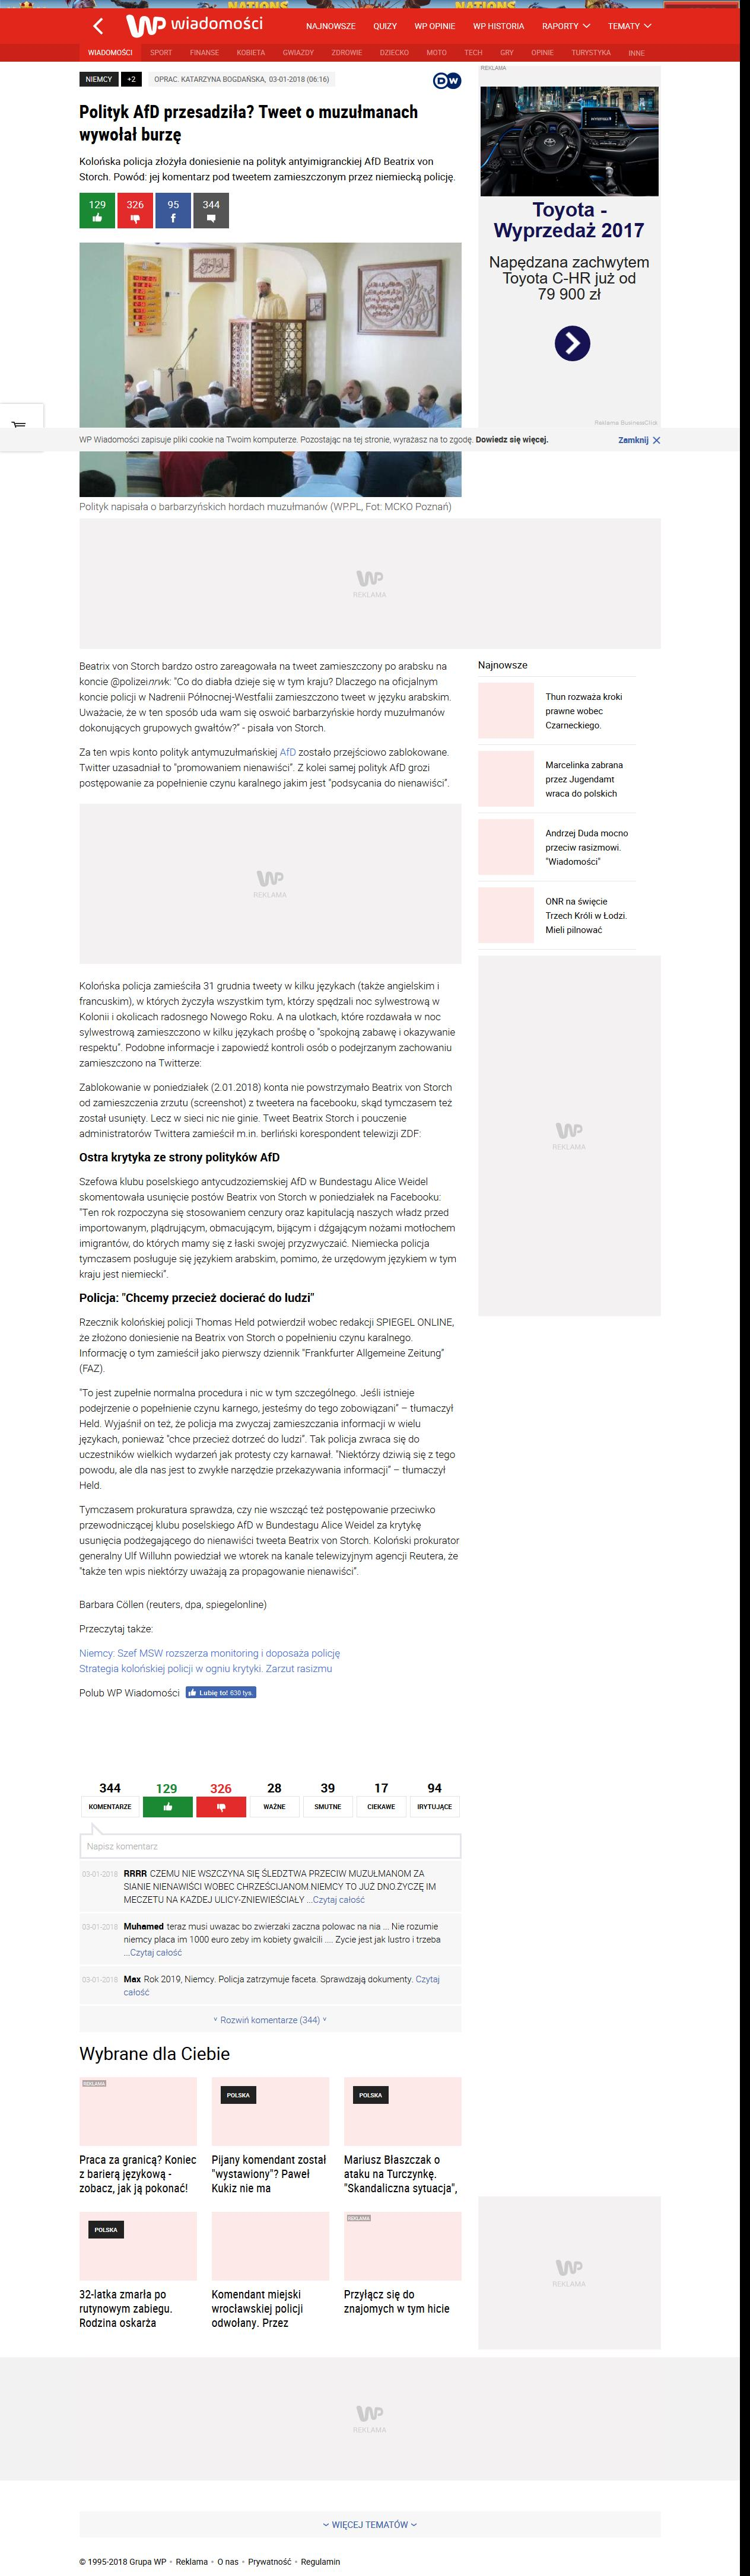title: (79, 102, 419, 145)
